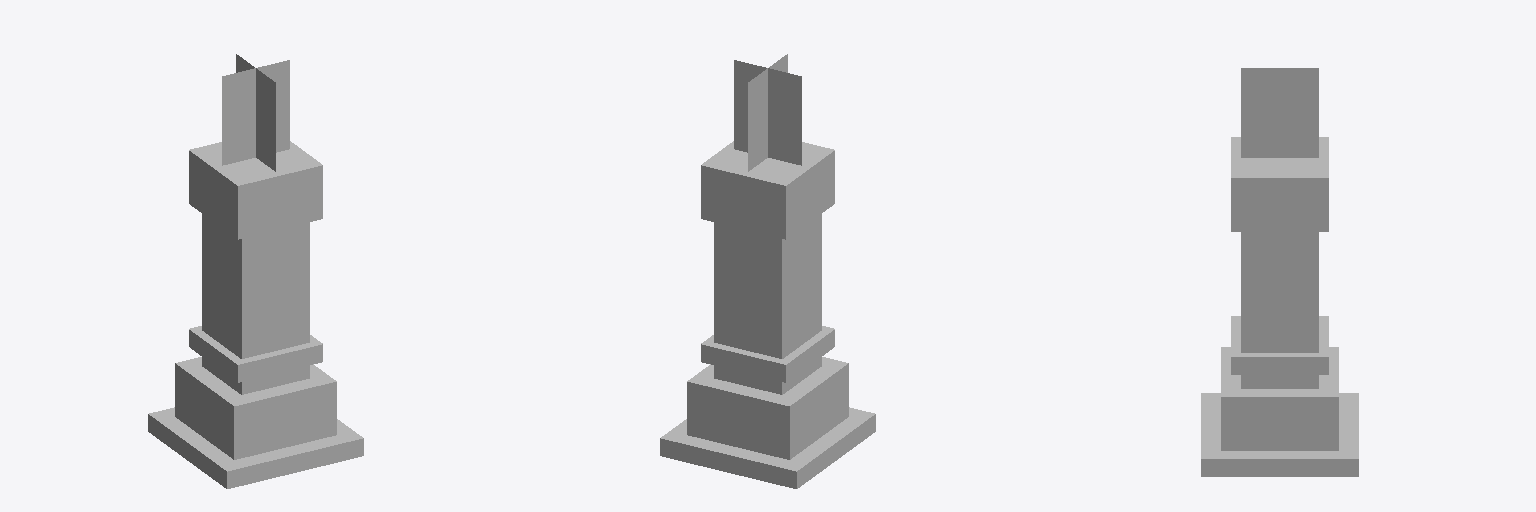
The model's file is king.obj.
3 renders of one model, left to right at view 1: azimuth 30°, elevation 25°; view 2: azimuth 150°, elevation 25°; view 3: azimuth 270°, elevation 25°, orthographic.
Visible parts, largest first — view 1: cube, cube.003, cube.002, cube.004, cube.005, cube.001, cube.006; view 2: cube, cube.003, cube.002, cube.004, cube.005, cube.001, cube.006; view 3: cube, cube.003, cube.002, cube.006, cube.004, cube.001.
Part boxes in pixels (left/top/right/bottom): cube: left=202, top=214, right=309, bottom=394; cube.003: left=175, top=357, right=336, bottom=459; cube.002: left=189, top=141, right=322, bottom=239; cube.004: left=148, top=407, right=363, bottom=488; cube.005: left=222, top=60, right=289, bottom=165; cube.001: left=189, top=326, right=322, bottom=382; cube.006: left=236, top=54, right=275, bottom=171; cube: left=714, top=214, right=821, bottom=394; cube.003: left=687, top=357, right=848, bottom=459; cube.002: left=701, top=141, right=834, bottom=239; cube.004: left=660, top=407, right=875, bottom=488; cube.005: left=734, top=60, right=801, bottom=165; cube.001: left=701, top=326, right=834, bottom=382; cube.006: left=748, top=54, right=787, bottom=171; cube: left=1241, top=232, right=1318, bottom=388; cube.003: left=1221, top=347, right=1338, bottom=450; cube.002: left=1231, top=137, right=1328, bottom=231; cube.006: left=1241, top=68, right=1318, bottom=157; cube.004: left=1201, top=393, right=1358, bottom=476; cube.001: left=1231, top=316, right=1328, bottom=374.
Size of the model in its own units: 0.5 by 1.31 by 0.5.